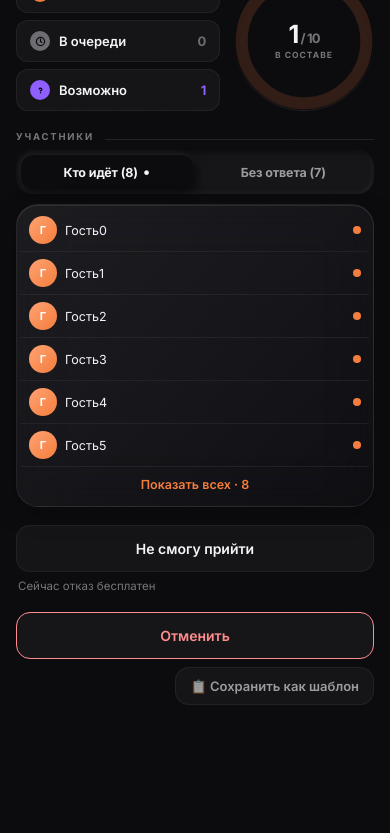
Test case: EventPage — состав Этапа 2 в стиле Этапа 1 (event-stage2-composition.md) › переключение таба сбрасывает раскрытие длинного списка
(page scrolled)
Click the button "Показать всех · 8".
click(195, 484)  # box [21, 466, 369, 502]
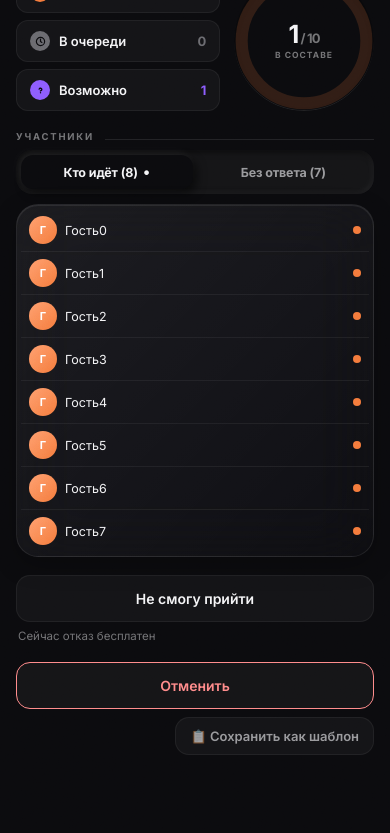
Check: the number of elements with class "rd-resp-row" is 8
Click the button "Без ответа (7)".
click(283, 172)  # box [198, 155, 369, 189]
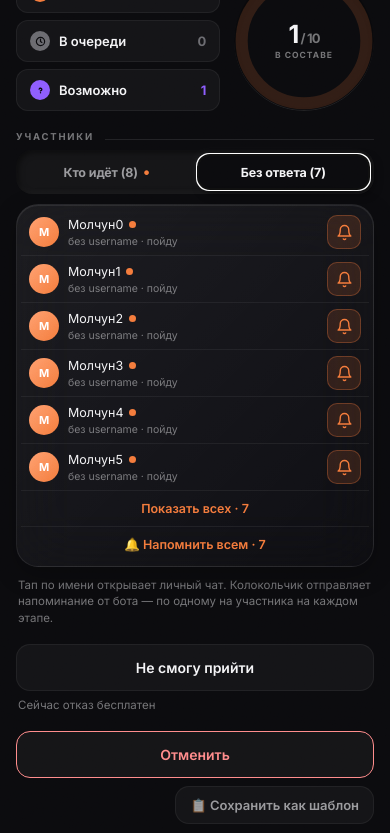
Check: the number of elements with class "rd-pend-row" is 6, box [21, 209, 369, 255]; [21, 255, 369, 302]; [21, 302, 369, 349]; [21, 349, 369, 396]; [21, 396, 369, 443]; [21, 443, 369, 490]
